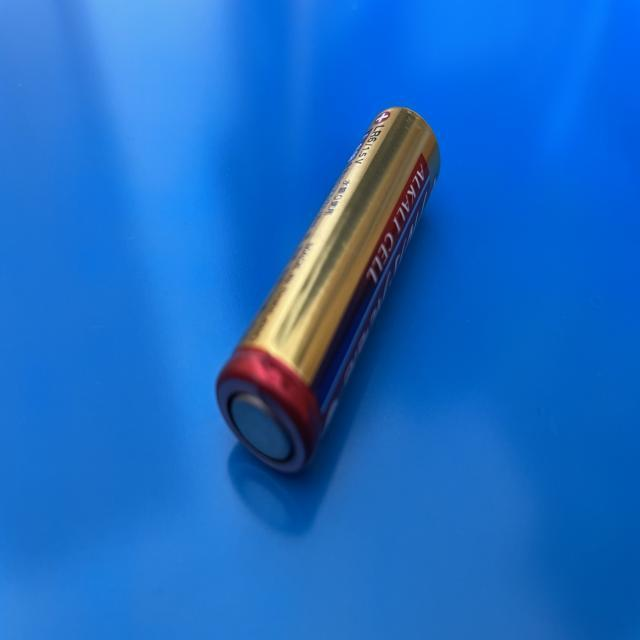hazardous waste: (210, 104, 442, 478)
